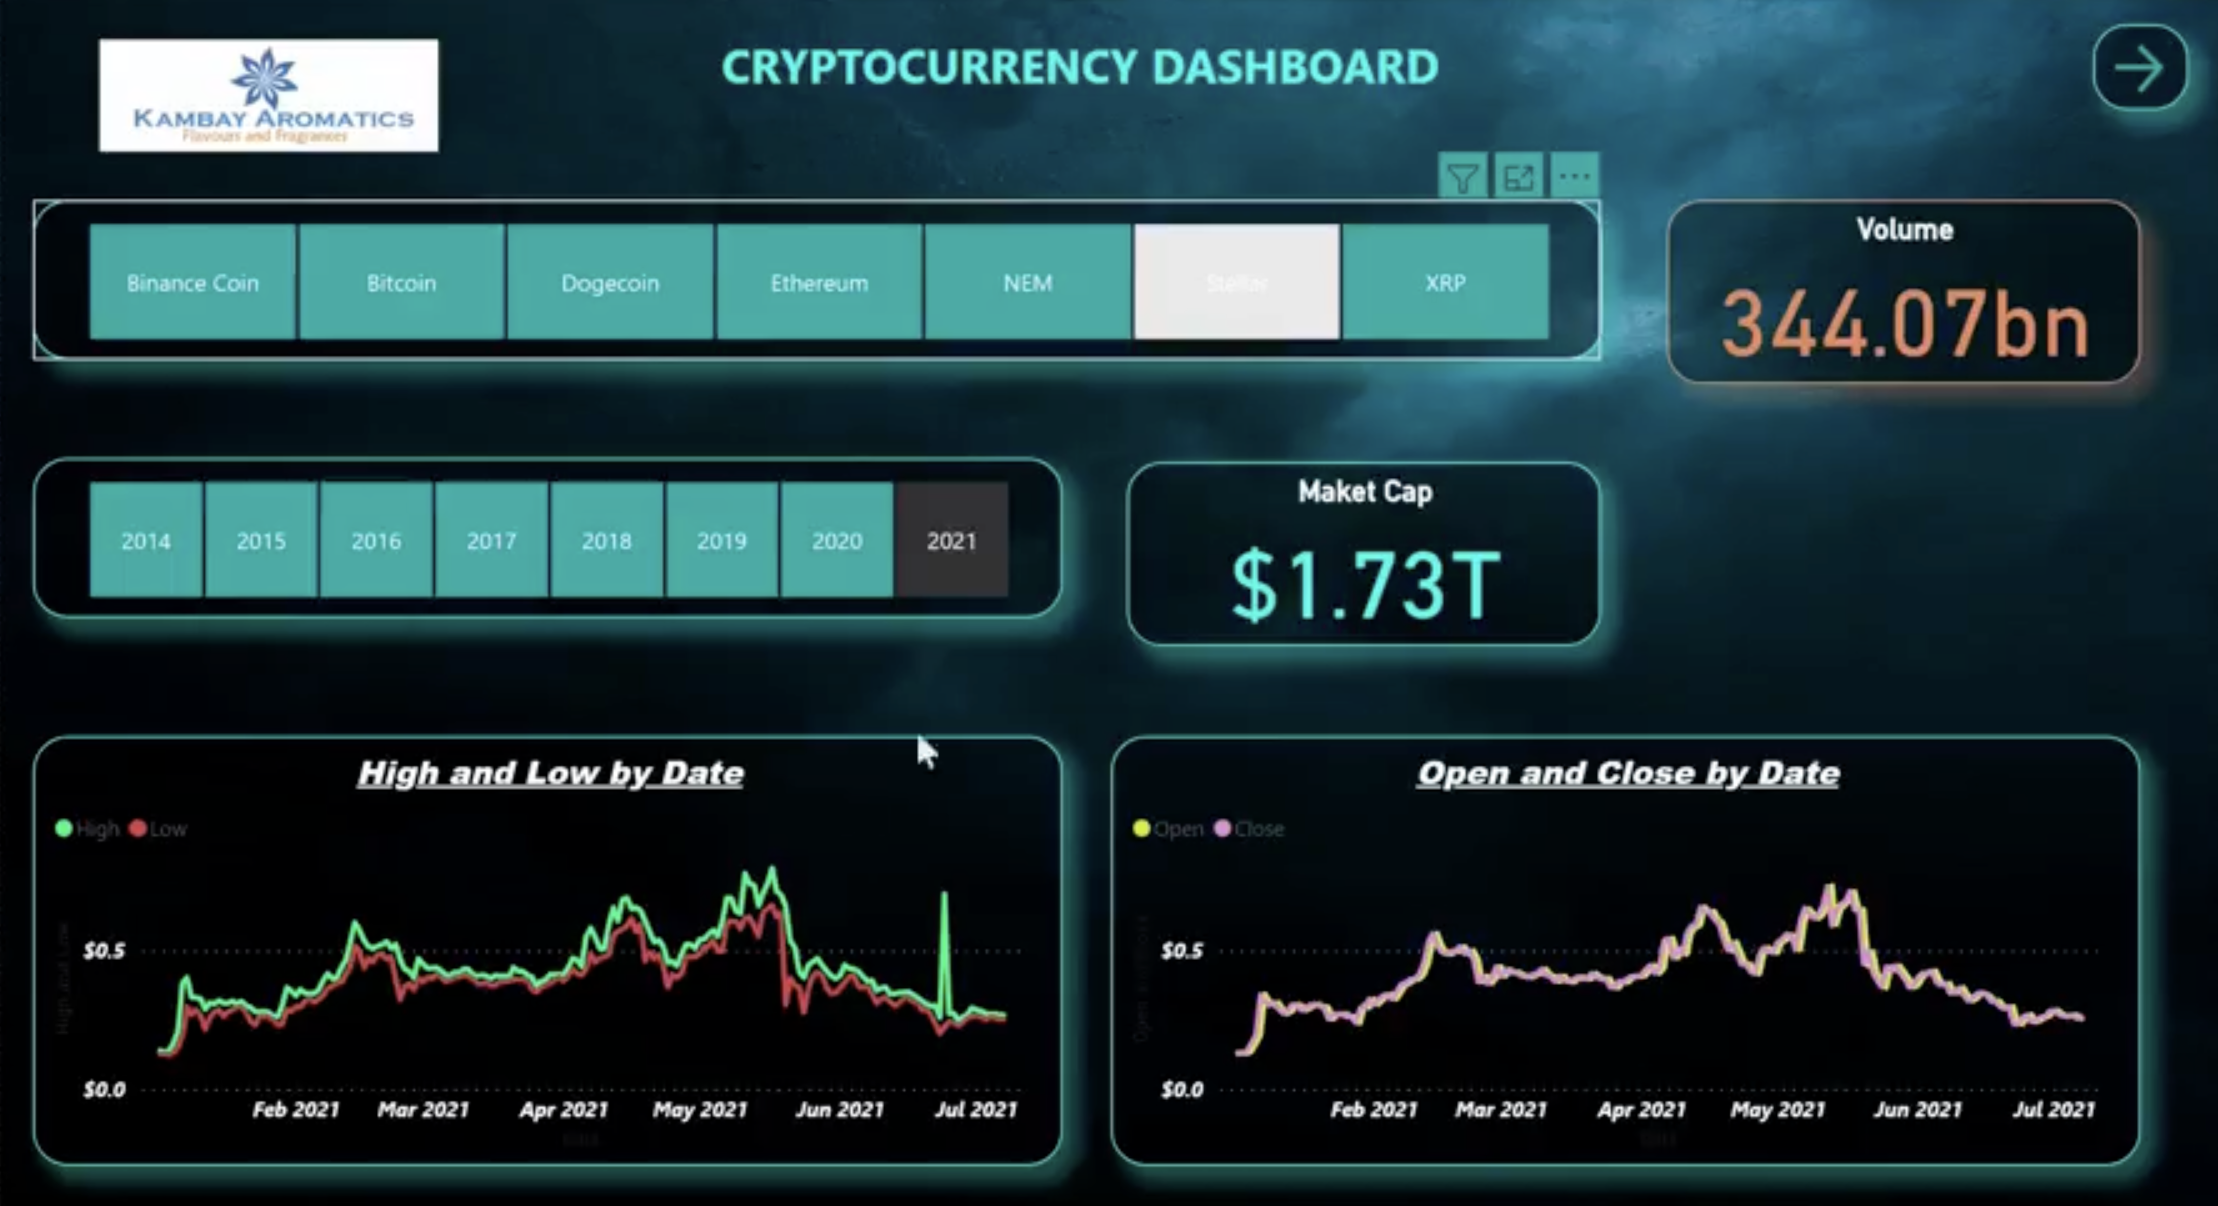

Layout of this report page (visuals, bound fields, positions):
{"tool":"powerbi","page":{"name":"Page 2","canvas":[1280,720],"ordinal":1},"visuals":[{"type":"slicer","fields":{"Values":["CryptoData CSV.Name"]},"box":[19.1,118.6,903.9,91.8],"z":0},{"type":"slicer","fields":{"Values":["CryptoData CSV.Year"]},"box":[19.1,267.7,592.8,91.8],"z":1000},{"type":"lineChart","fields":{"Y":["Sum(CryptoData CSV.High)","Sum(CryptoData CSV.Low)"],"Category":["CryptoData CSV.Date"]},"box":[19.1,427.1,592.8,247.3],"z":2000},{"type":"actionButton","box":[1206.1,17.8,54.8,49.7],"z":3000},{"type":"image","box":[53,17.3,205.1,81.8],"z":4000},{"type":"textbox","box":[411.8,17.8,455.1,48.4],"z":5000},{"type":"card","title":"Volume","fields":{"Values":["Sum(CryptoData CSV.Volume)"]},"box":[961.3,118.6,272.8,105.8],"z":6000},{"type":"card","title":"Maket Cap","fields":{"Values":["Sum(CryptoData CSV.Marketcap)"]},"box":[650,270.1,272.8,105.8],"z":7000},{"type":"lineChart","fields":{"Y":["Sum(CryptoData CSV.Open)","Sum(CryptoData CSV.Close)"],"Category":["CryptoData CSV.Date"]},"box":[640,427.1,592.8,247.3],"z":7001}]}

Visuals, with their boxes on the page's 1280x720 design canvas (x1, y1, x2, y2). These are canvas units, not pixel positions in the 2218x1206 screenshot, which may show the page scaled, cropped or inside an application window:
slicer - CryptoData CSV.Name: l=19, t=119, r=923, b=210
slicer - CryptoData CSV.Year: l=19, t=268, r=612, b=360
lineChart - Sum(CryptoData CSV.High) x Sum(CryptoData CSV.Low): l=19, t=427, r=612, b=674
actionButton: l=1206, t=18, r=1261, b=68
image: l=53, t=17, r=258, b=99
textbox: l=412, t=18, r=867, b=66
"Volume" card: l=961, t=119, r=1234, b=224
"Maket Cap" card: l=650, t=270, r=923, b=376
lineChart - Sum(CryptoData CSV.Open) x Sum(CryptoData CSV.Close): l=640, t=427, r=1233, b=674
